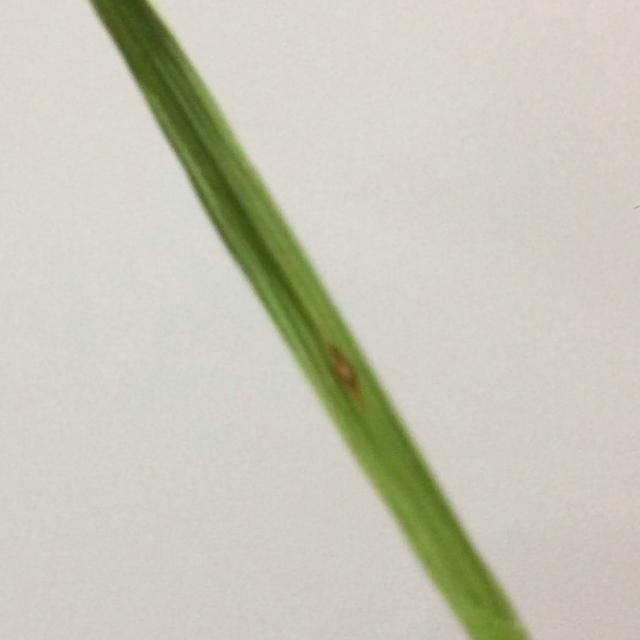Blast: (327, 346, 366, 396)
